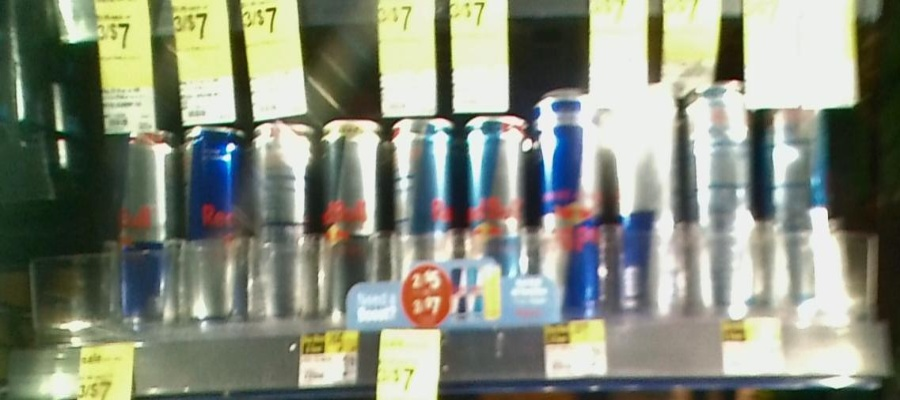bottle: (682, 75, 754, 306), (530, 87, 601, 317), (607, 70, 674, 311), (764, 73, 830, 311), (389, 112, 458, 323), (462, 105, 528, 319), (249, 119, 314, 322), (319, 117, 382, 326), (180, 119, 237, 325), (117, 124, 174, 325)
